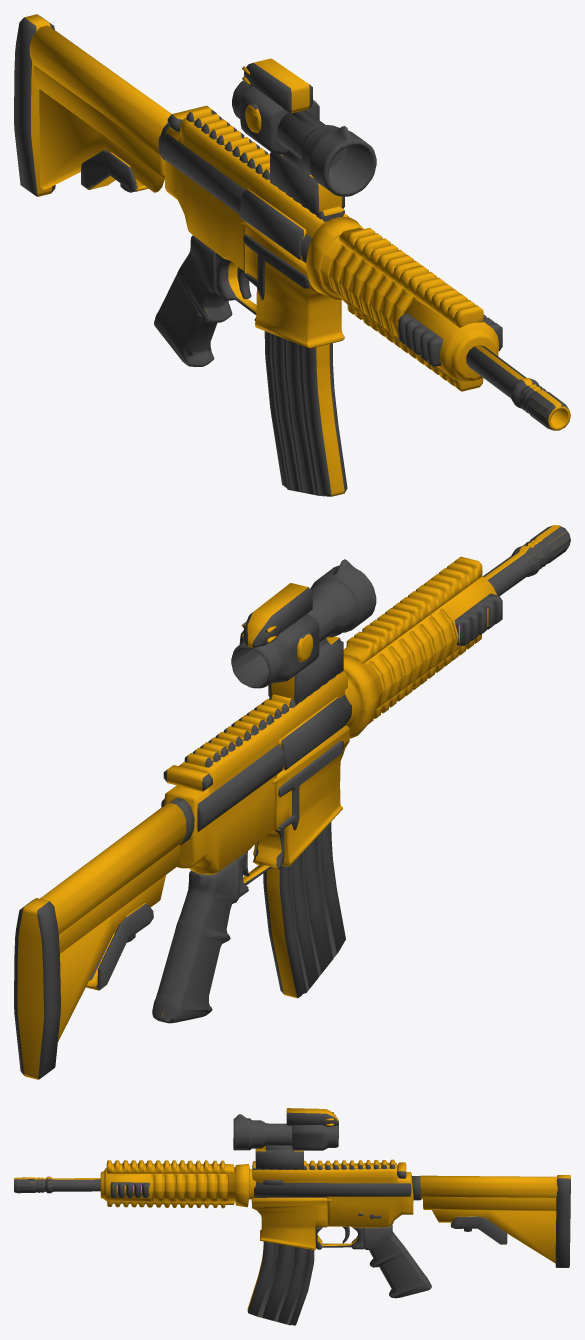
File: AssaultRifleWithClip.fbx
3 views of the same model, one above another, from view 1: azimuth 30°, elevation 25°; view 2: azimuth 150°, elevation 25°; view 3: azimuth 270°, elevation 25° (orthographic). The views are drawn at different scales.
Visible parts, largest first — view 1: vAssaultRifle_3, vAssaultRifle_3.001; view 2: vAssaultRifle_3, vAssaultRifle_3.001; view 3: vAssaultRifle_3, vAssaultRifle_3.001.
Part boxes in pixels (left/top/right/bottom): vAssaultRifle_3: left=14, top=14, right=570, bottom=430; vAssaultRifle_3.001: left=264, top=331, right=347, bottom=496; vAssaultRifle_3: left=14, top=525, right=570, bottom=1079; vAssaultRifle_3.001: left=263, top=822, right=345, bottom=998; vAssaultRifle_3: left=14, top=1108, right=570, bottom=1298; vAssaultRifle_3.001: left=247, top=1241, right=314, bottom=1325.
Bounding box in the file's own units: 6.79 × 36.5 × 86.23.
